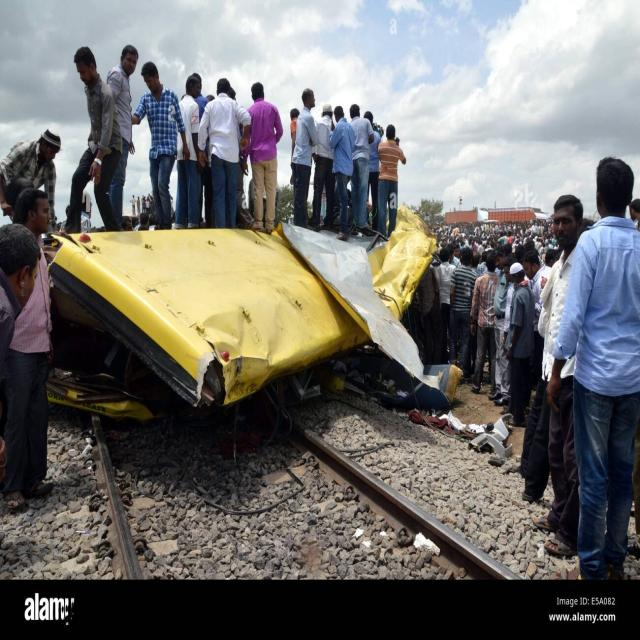accident: (49, 206, 460, 421)
